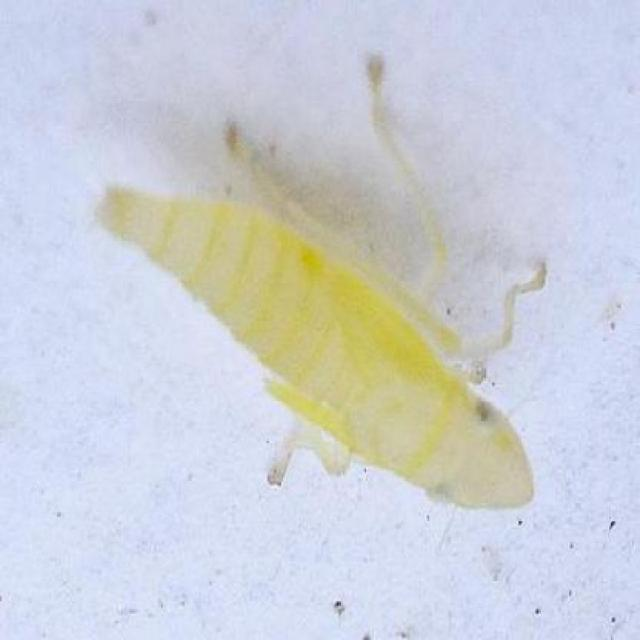green-leafhopper: (98, 54, 550, 512)
